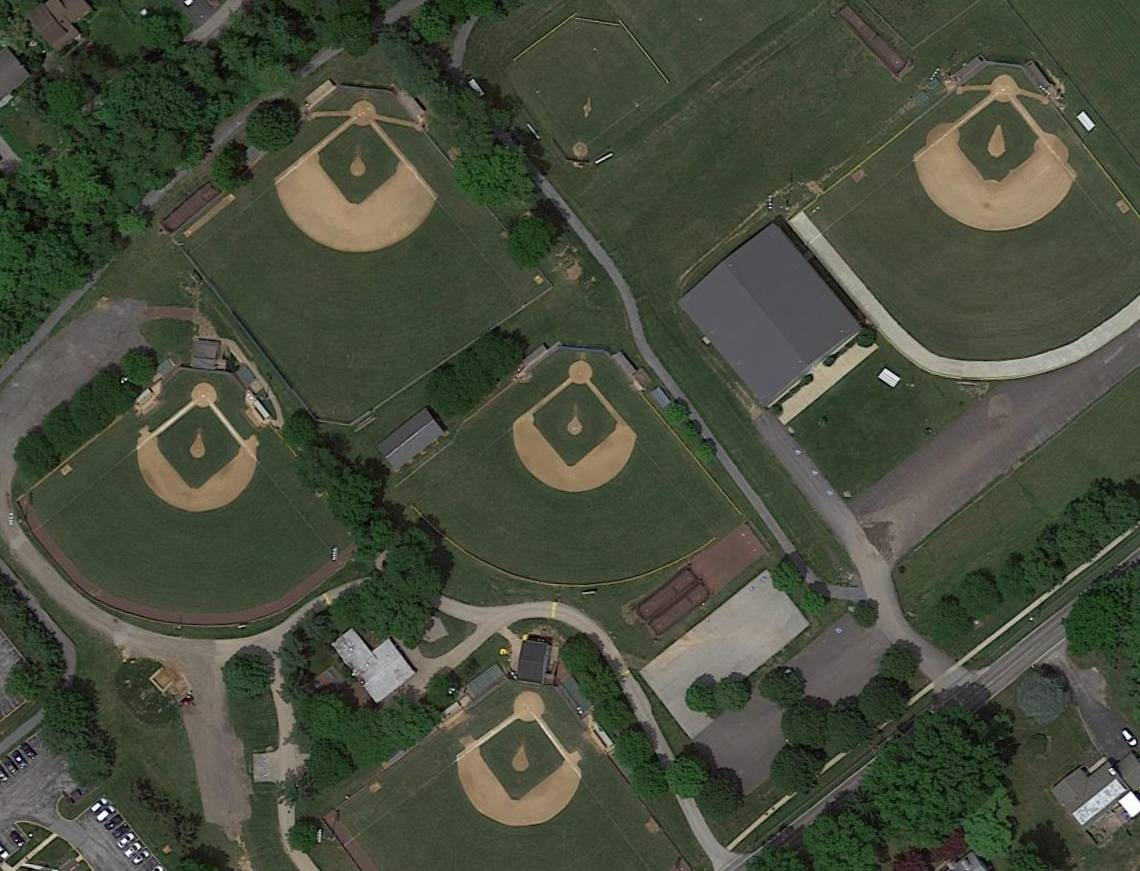baseball diamond: (903, 87, 1084, 271), (263, 111, 447, 290), (446, 707, 592, 847), (125, 394, 269, 535), (503, 374, 647, 513)
small vehicle: (87, 792, 111, 815), (96, 802, 118, 825), (6, 828, 28, 850), (1118, 726, 1139, 748), (122, 841, 144, 861), (20, 740, 39, 763), (104, 812, 124, 832), (10, 751, 29, 771), (131, 848, 150, 867), (112, 821, 131, 840), (2, 757, 19, 776), (116, 831, 135, 848)
